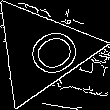O_SW: (5, 18, 78, 84)
